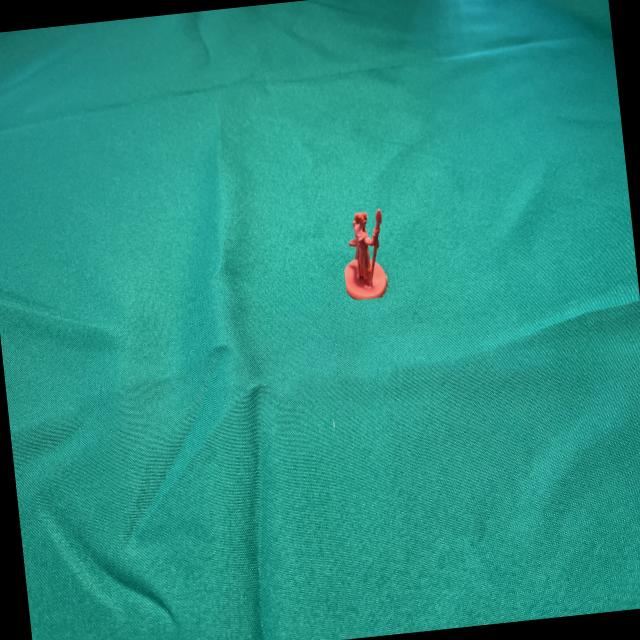amon_follower: (345, 210, 387, 299)
